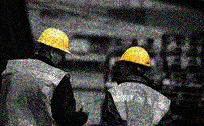helmet: (36, 28, 71, 63), (116, 46, 153, 78)
